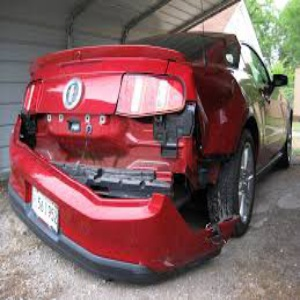bumper: (65, 178, 224, 285)
